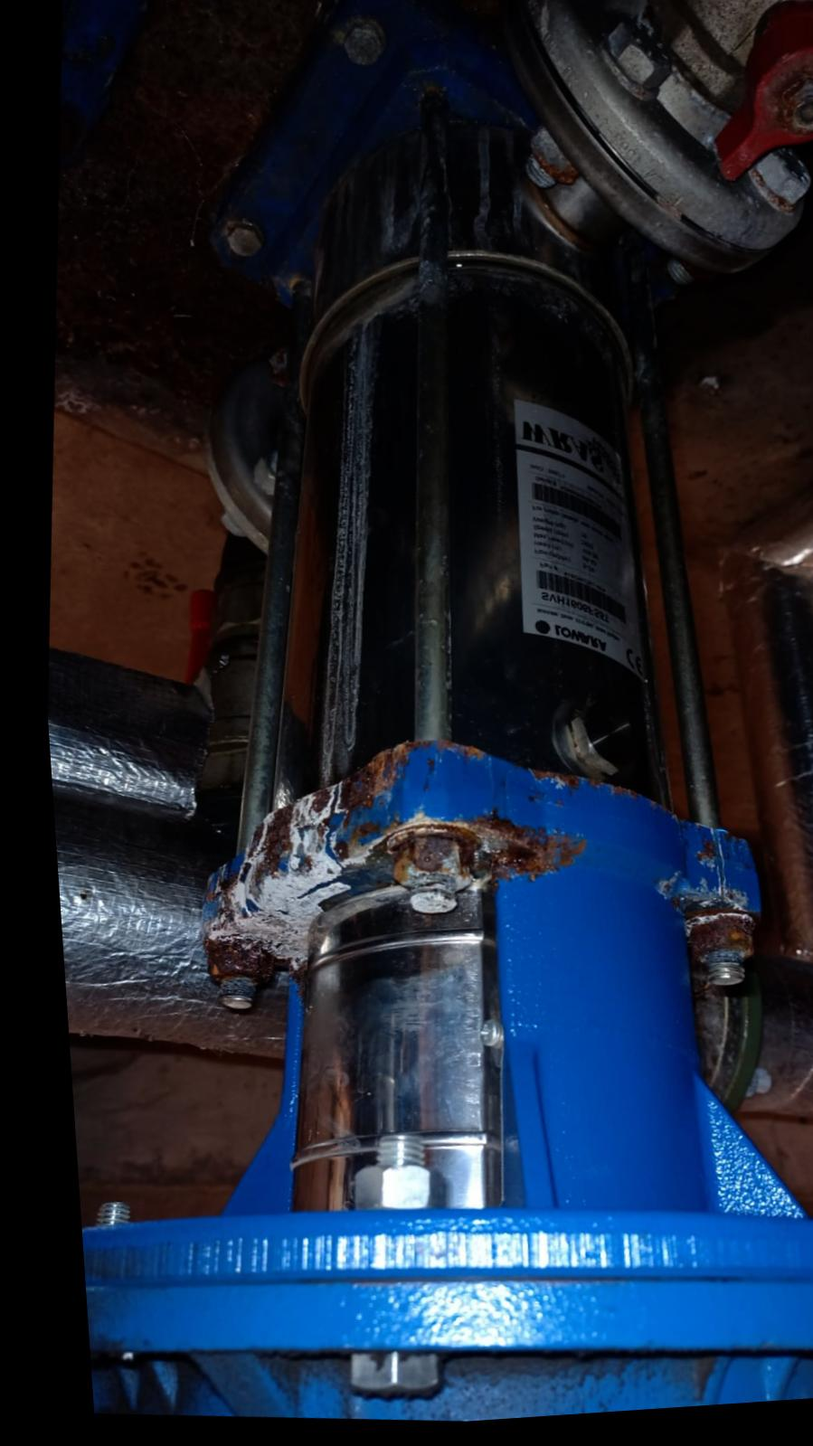leak: (215, 329, 384, 965)
